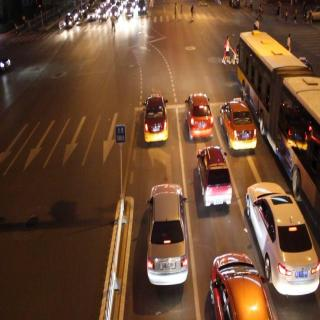BigCar: (236, 23, 309, 146), (279, 82, 320, 220)
Car: (246, 180, 320, 302), (139, 178, 193, 298), (207, 253, 278, 320), (195, 142, 234, 212), (220, 96, 254, 162), (142, 90, 170, 146), (186, 82, 212, 137)
